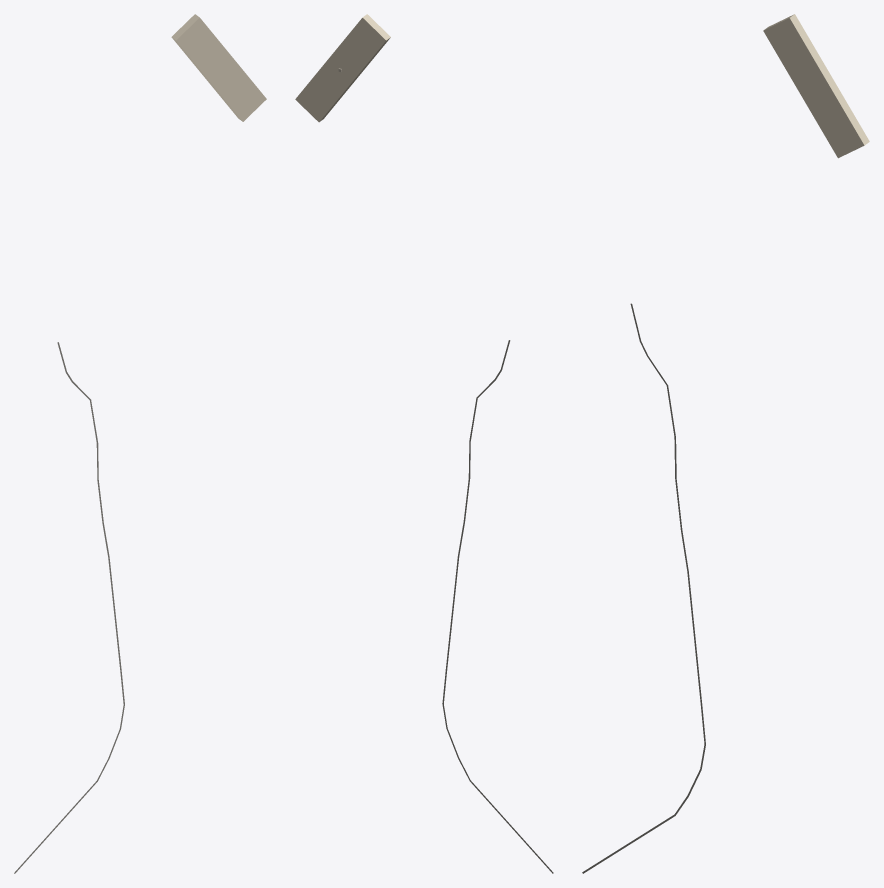
The model's file is historic-palestine-13_34_3548_3287.glb.
3 renders of one model, left to right at view 1: azimuth 30°, elevation 25°; view 2: azimuth 150°, elevation 25°; view 3: azimuth 330°, elevation 25°, orthographic. The views are drawn at different scales.
Visible parts, largest first — view 1: Building_, Road; view 2: Building_, Road; view 3: Building_, Road.
Part boxes in pixels (x1,y1,x2,y2): Building_: [171, 14, 266, 121]; Road: [14, 342, 124, 873]; Building_: [295, 14, 390, 122]; Road: [442, 340, 553, 873]; Building_: [763, 14, 869, 158]; Road: [582, 303, 705, 873].
Size of the model in its own units: 229 by 701 by 8.7.
